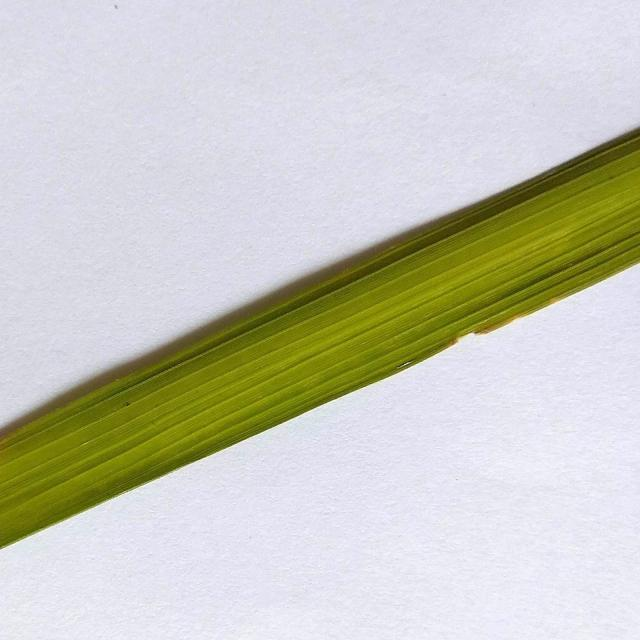healthy: (0, 121, 640, 557)
